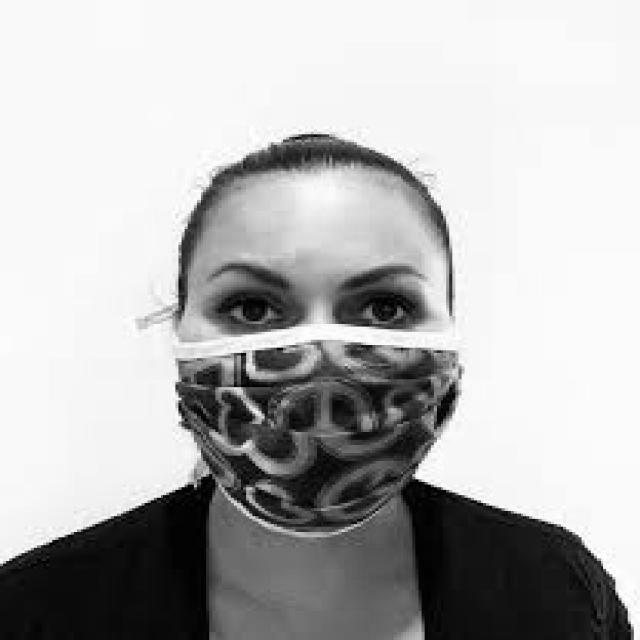fake: (159, 320, 469, 542)
real: (180, 164, 459, 548)
